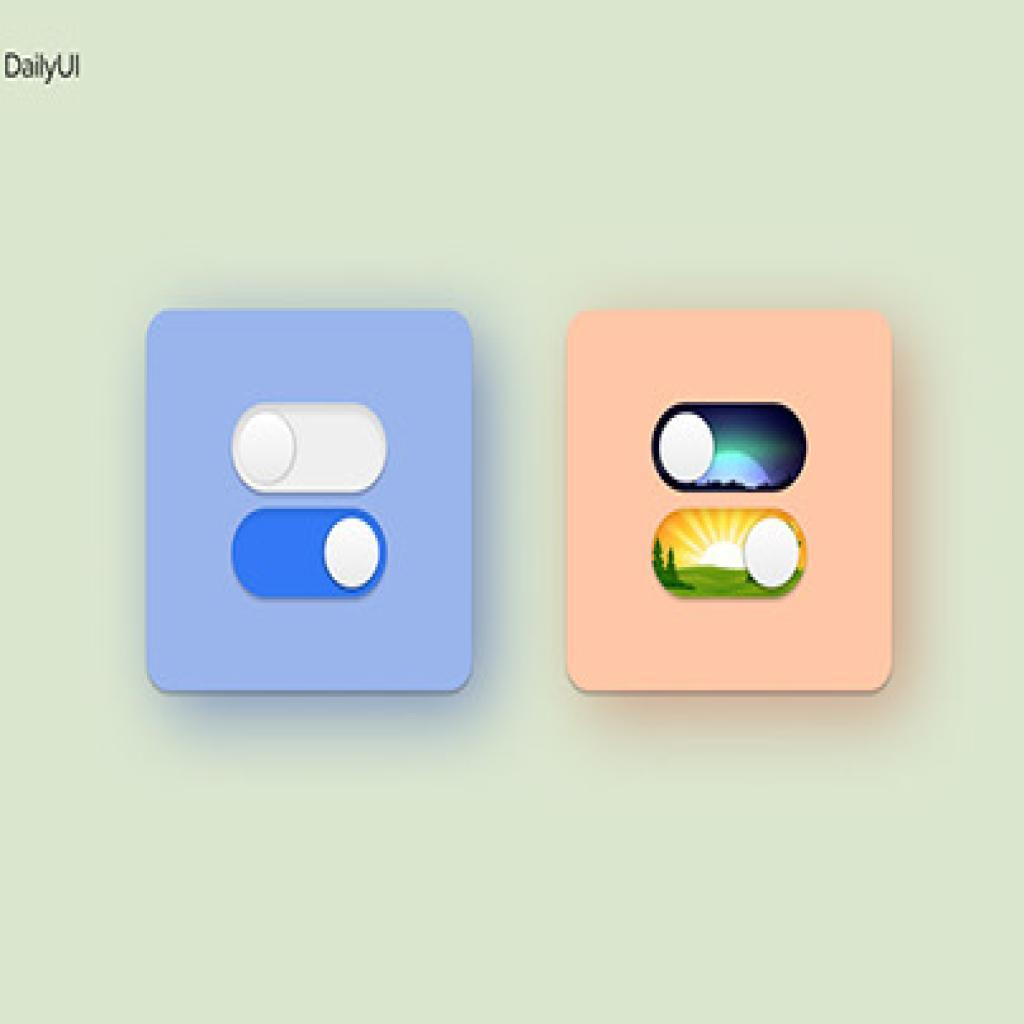switch: (227, 504, 408, 618), (645, 497, 818, 605), (644, 392, 823, 495), (230, 398, 395, 495)
